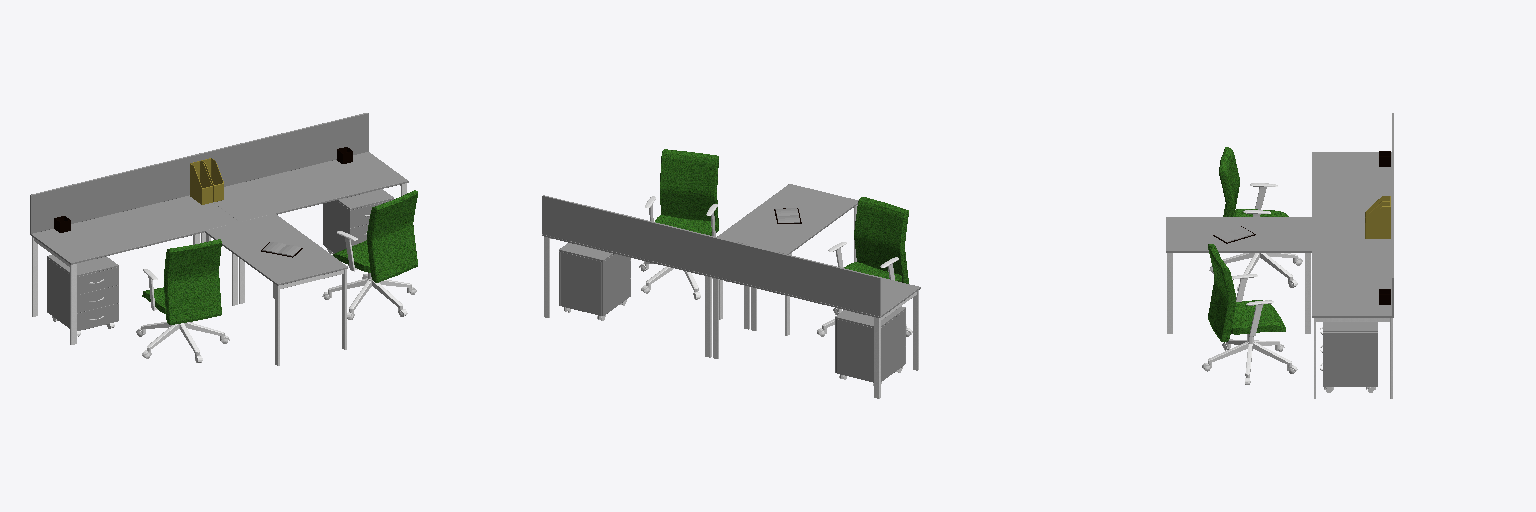
3 renders of one model, left to right at view 1: azimuth 30°, elevation 25°; view 2: azimuth 150°, elevation 25°; view 3: azimuth 270°, elevation 25°, orthographic.
Bounding box in the file's own units: 3.2 × 1.1 × 1.87.
8 materials, 2 textured.